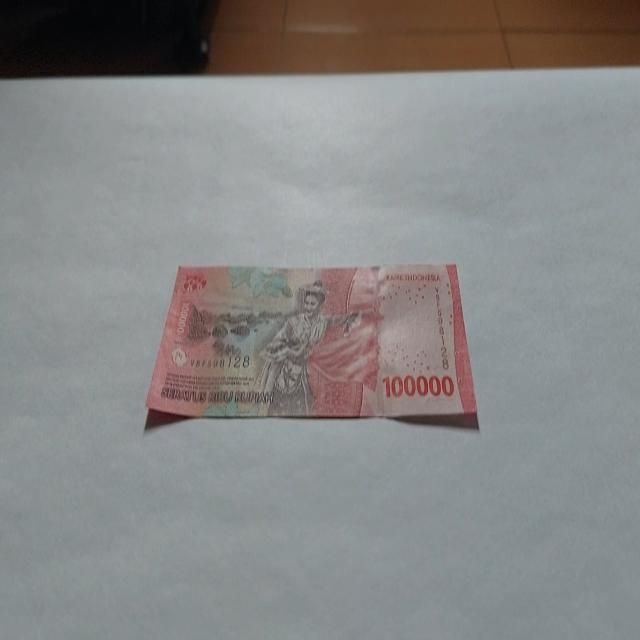seratus ribu rupiah: (142, 260, 480, 432)
